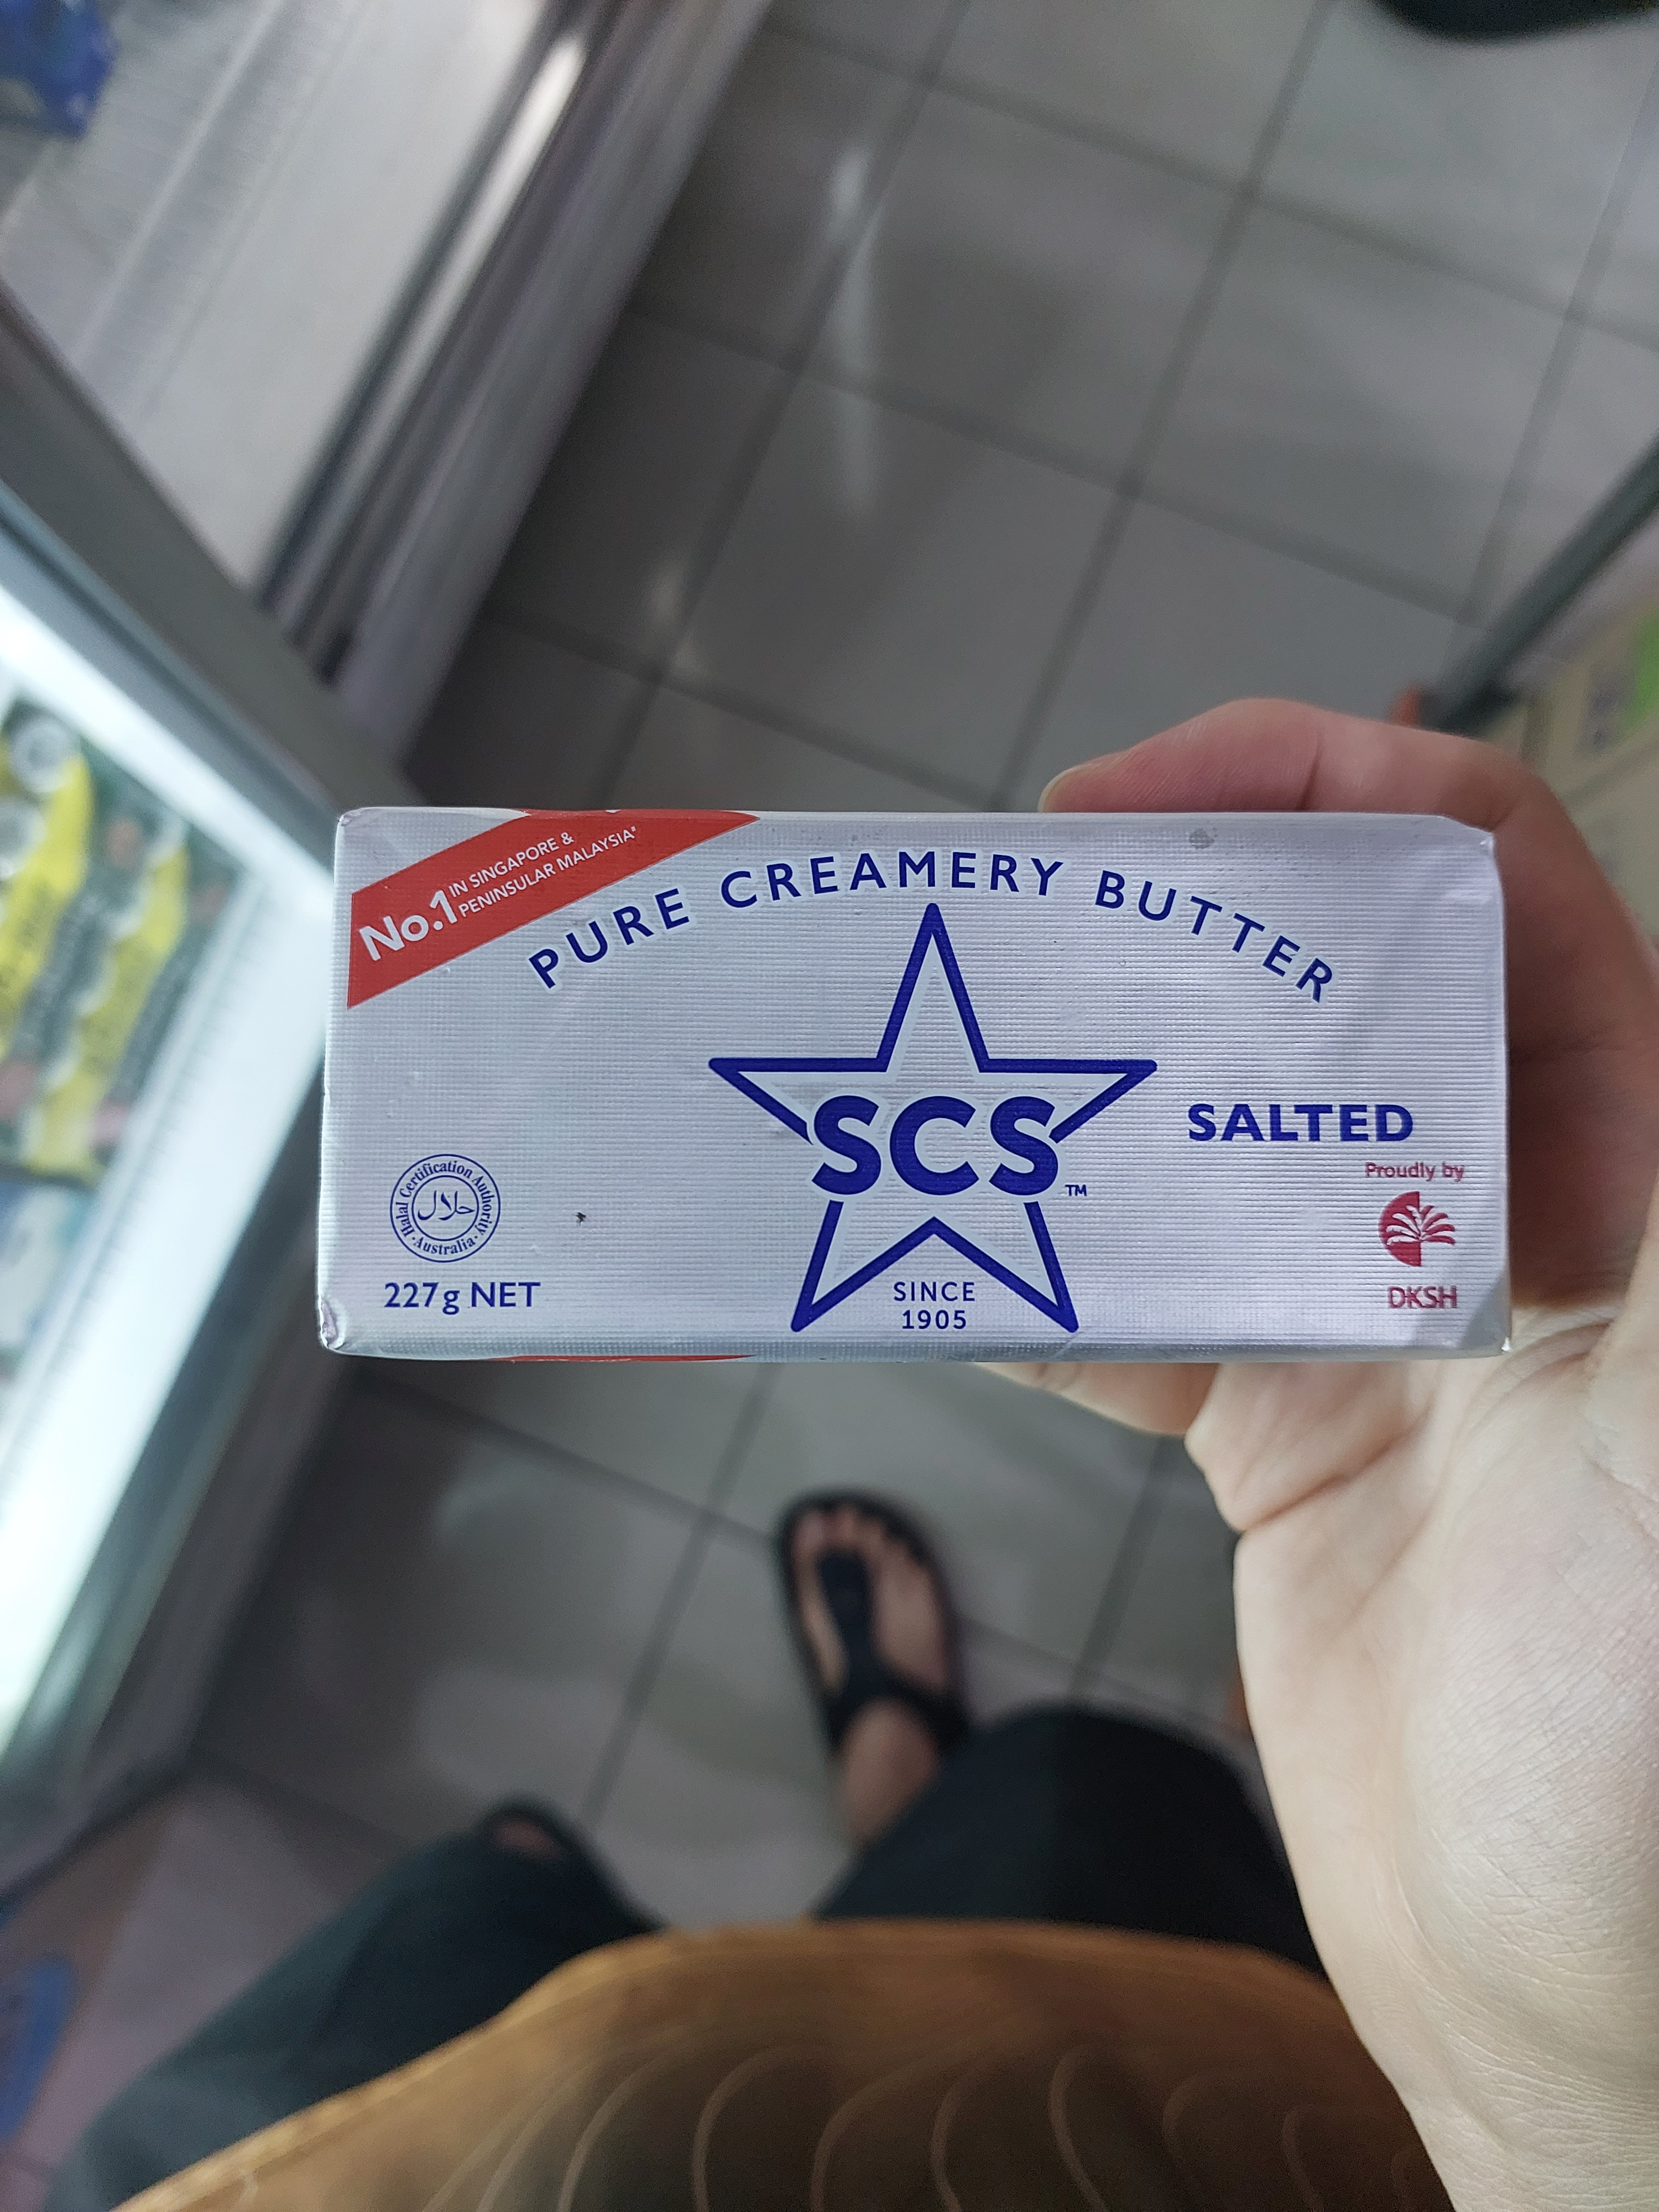butter: (308, 791, 1523, 1371)
